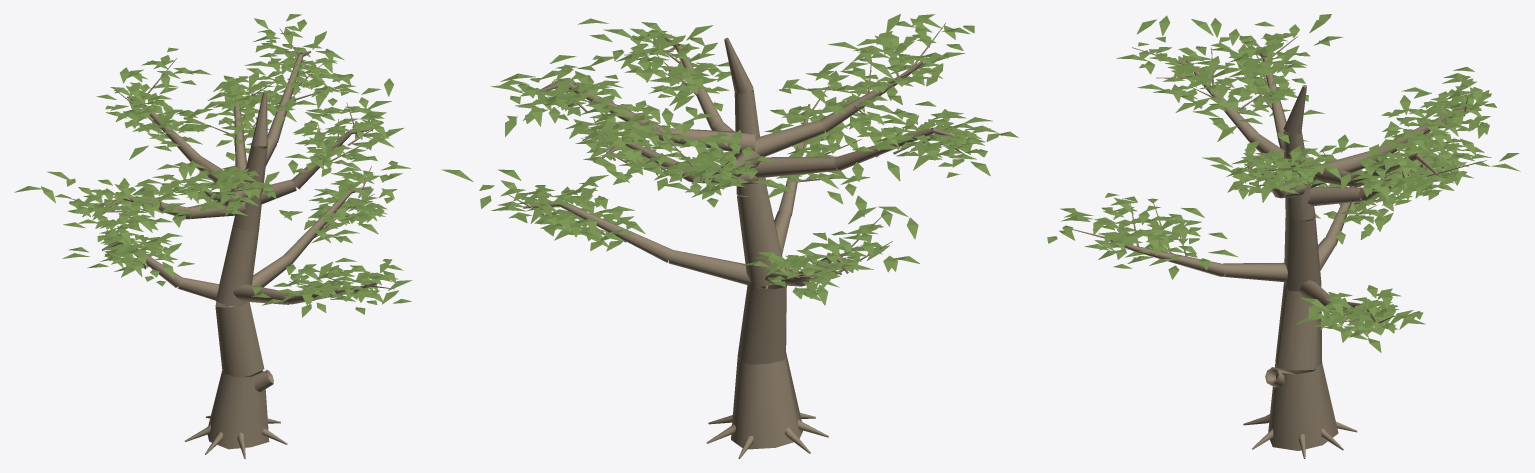
The model's file is hero_lod1.glb.
3 views of the same model, side by side, from view 1: azimuth 30°, elevation 25°; view 2: azimuth 150°, elevation 25°; view 3: azimuth 270°, elevation 25° (orthographic). The views are drawn at different scales.
Parts seen in each view (by area): view 1: Leaves, Bark; view 2: Leaves, Bark; view 3: Leaves, Bark.
Part boxes in pixels (<box>): Leaves: <box>14,14,412,317</box>; Bark: <box>68,28,394,458</box>; Leaves: <box>441,14,1018,305</box>; Bark: <box>507,23,971,458</box>; Leaves: <box>1047,14,1520,352</box>; Bark: <box>1072,36,1486,458</box>.
Bounding box in the file's own units: 16.6 × 12.39 × 14.49.
